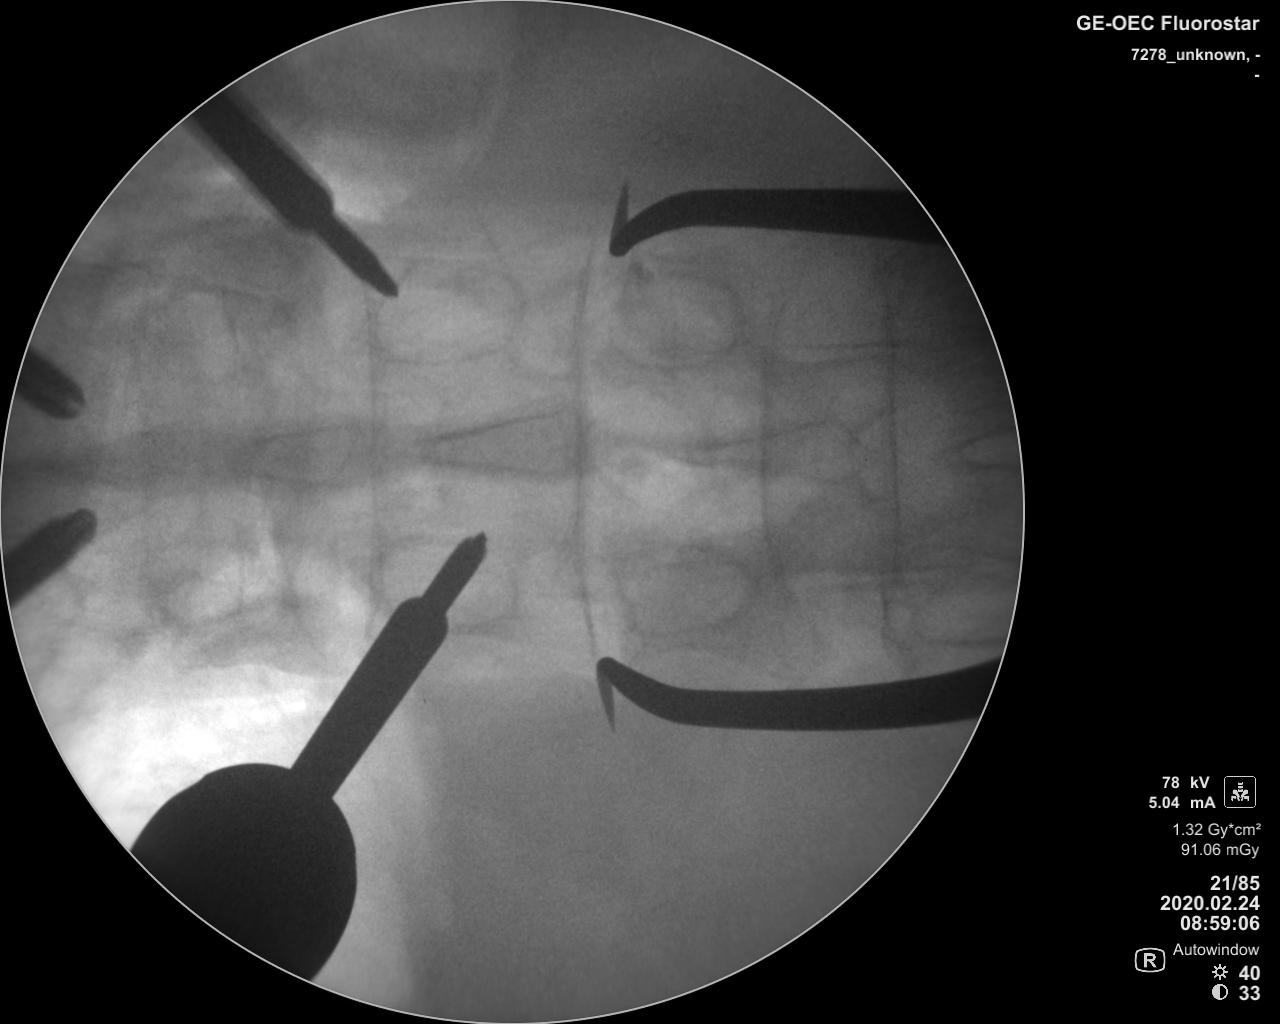eyes: (374, 267, 527, 364), (609, 263, 743, 372), (377, 535, 519, 635), (157, 531, 289, 633), (147, 285, 282, 385), (629, 548, 762, 638)
line: (567, 238, 600, 664), (753, 280, 793, 599), (355, 292, 393, 619), (876, 276, 908, 585)
nose: (405, 402, 605, 487), (32, 422, 235, 495), (674, 413, 870, 483), (223, 418, 413, 486)
